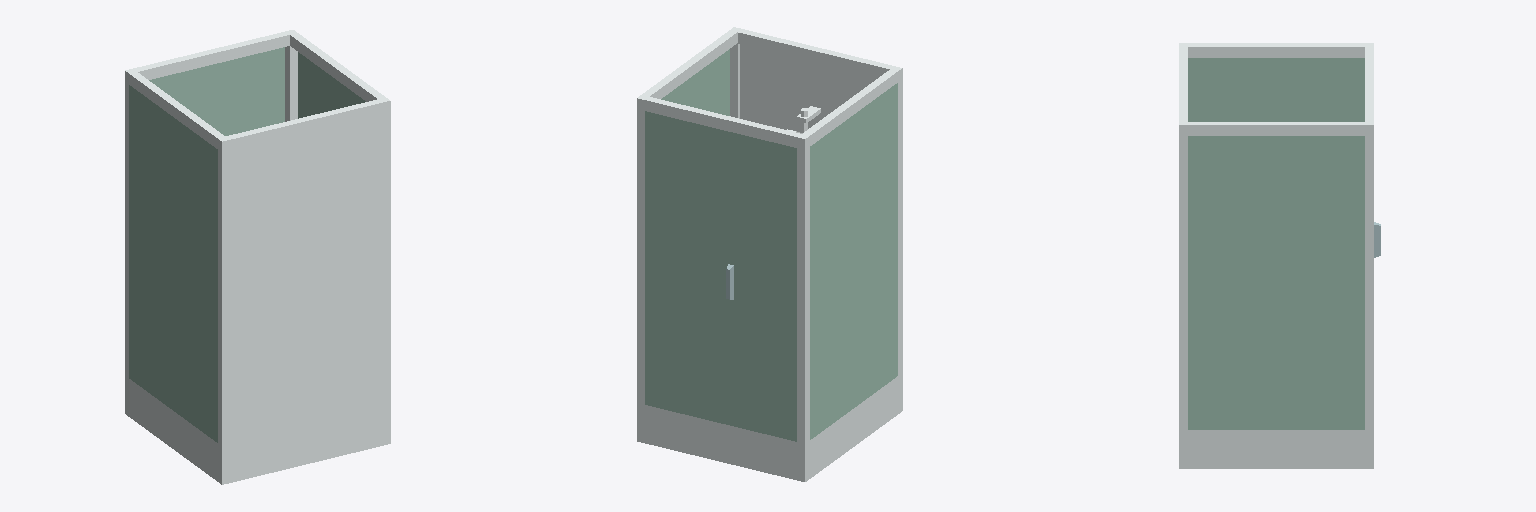
Rendered from shower.obj.
The picture shows the model from 3 angles: view 1: azimuth 30°, elevation 25°; view 2: azimuth 150°, elevation 25°; view 3: azimuth 270°, elevation 25°; orthographic projection.
Parts seen in each view (by area): view 1: shower, doorLeft, doorRight; view 2: shower, doorLeft, doorRight; view 3: shower.
Boxes of the visible parts, <box> form: shower: <box>125,30,390,484</box>; doorLeft: <box>209,47,284,135</box>; doorRight: <box>149,66,208,123</box>; shower: <box>637,27,902,481</box>; doorLeft: <box>645,111,720,422</box>; doorRight: <box>721,130,796,441</box>; shower: <box>1179,43,1373,468</box>.
Bounding box in the file's own units: 0.5618 × 1.09 × 0.5818.